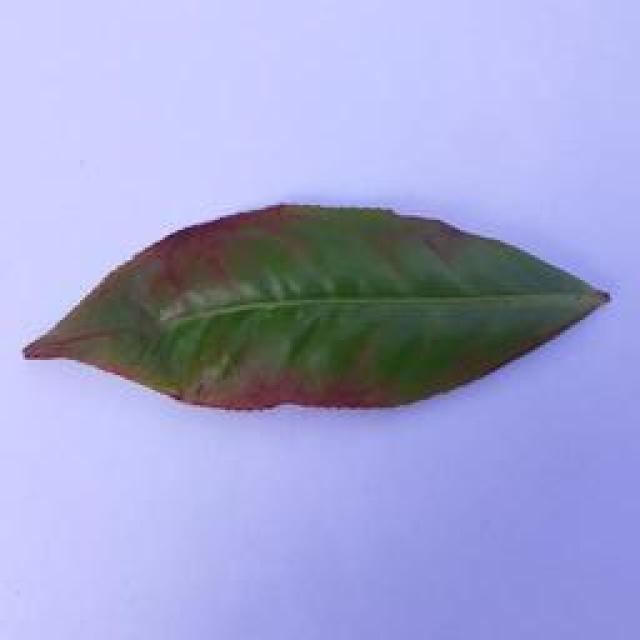Red Leaf Spot: (23, 196, 640, 430)
